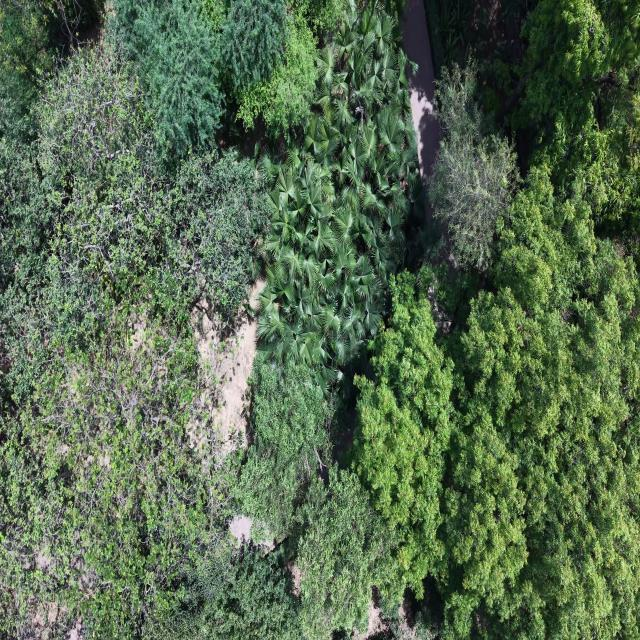DRY_AREA: (196, 302, 256, 452), (402, 0, 440, 176)
VEGETATION_TREE: (0, 0, 639, 639), (0, 25, 269, 637), (0, 46, 267, 637), (407, 69, 639, 638), (430, 166, 639, 638), (0, 320, 232, 637), (5, 46, 268, 312), (259, 4, 419, 390), (425, 0, 639, 236), (236, 363, 389, 639), (112, 0, 341, 163), (355, 272, 453, 597), (512, 0, 639, 235), (429, 65, 517, 271), (115, 0, 227, 157), (238, 363, 330, 540), (170, 152, 269, 316), (296, 466, 387, 639), (145, 544, 301, 639), (0, 0, 103, 137), (237, 14, 317, 136), (0, 5, 50, 136), (219, 0, 286, 93), (289, 0, 344, 36)
